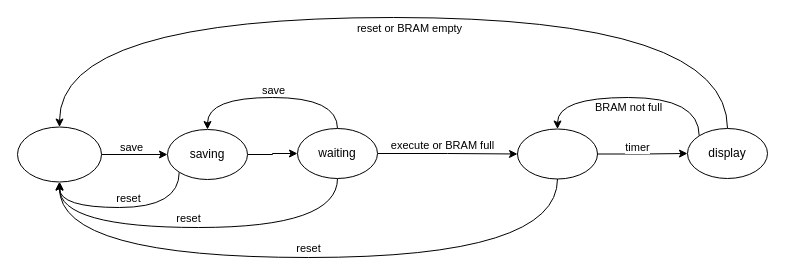
Image size: 785x275. Some labels were removed from this diagram. The box of each missing label's shape, as (x1, y1, x2, y2) in pixels:
idle: (16, 126, 102, 182)
read: (516, 128, 598, 179)
